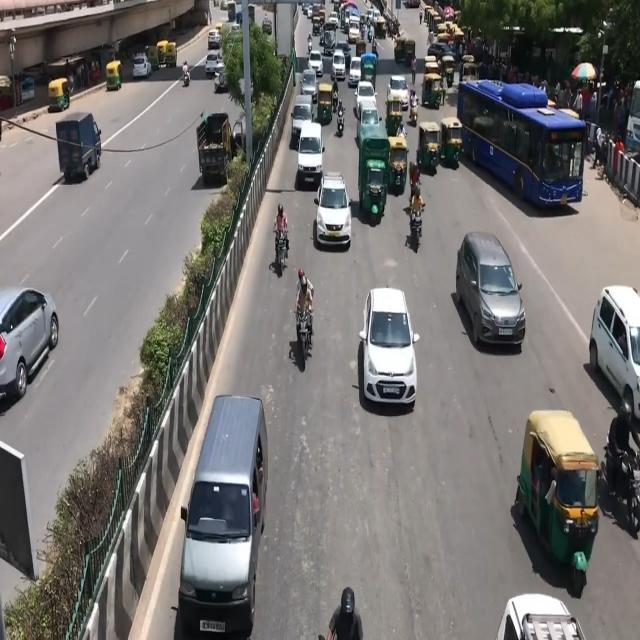Bike: (290, 279, 322, 368), (266, 202, 294, 281), (409, 189, 429, 258)
